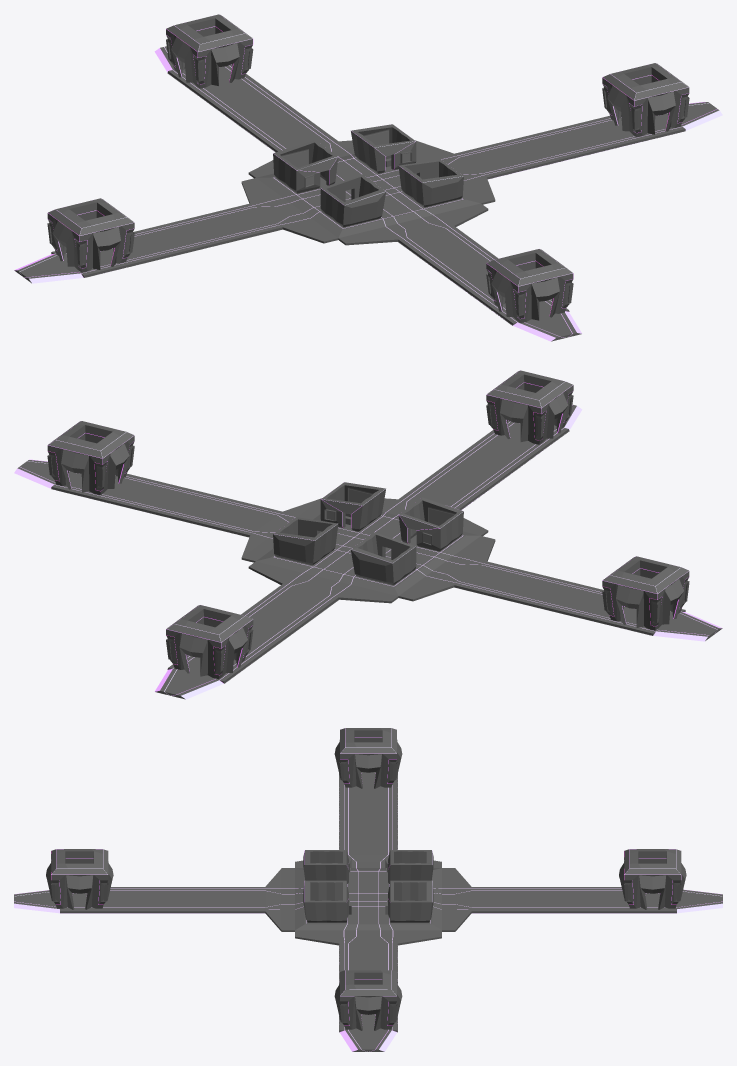
File: Spacestation.glb
3 renders of one model, top to bottom at view 1: azimuth 30°, elevation 25°; view 2: azimuth 150°, elevation 25°; view 3: azimuth 270°, elevation 25°, orthographic. The views are drawn at different scales.
Visible parts, largest first — view 1: Floor-col, Walls-col, SmallRoom-col; view 2: Floor-col, Walls-col, SmallRoom-col; view 3: Floor-col, Walls-col, SmallRoom-col.
Part boxes in pixels (x1,y1,x2,y2): Floor-col: [14, 46, 722, 341]; Walls-col: [47, 14, 689, 323]; SmallRoom-col: [273, 124, 463, 227]; Floor-col: [14, 405, 722, 699]; Walls-col: [47, 370, 689, 679]; SmallRoom-col: [273, 482, 463, 585]; Floor-col: [14, 772, 722, 1051]; Walls-col: [46, 728, 686, 1030]; SmallRoom-col: [303, 850, 433, 922].
Bounding box in the file's own units: 85.49 × 5.78 × 84.96.
